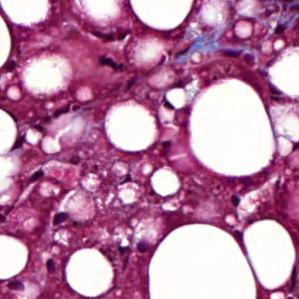steatosis: (147, 223, 257, 299), (65, 247, 114, 299), (129, 0, 193, 30), (148, 168, 182, 196)
